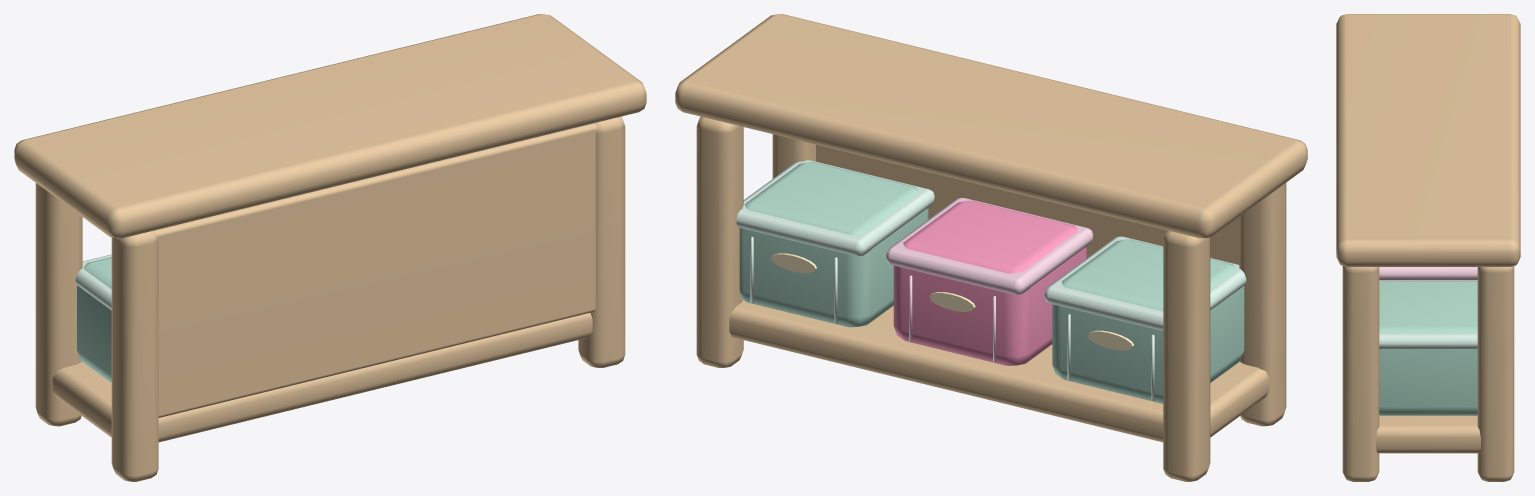
Rendered from shelf_basket.glb.
The picture shows the model from 3 angles, left to right: view 1: azimuth 30°, elevation 25°; view 2: azimuth 150°, elevation 25°; view 3: azimuth 270°, elevation 25°; orthographic projection. The views are drawn at different scales.
Parts seen in each view (by area): view 1: Body; view 2: Body; view 3: Body.
Boxes of the visible parts, x1=… form: Body: x1=14, y1=14, x2=646, y2=481; Body: x1=675, y1=14, x2=1307, y2=481; Body: x1=1336, y1=14, x2=1520, y2=481.
Bounding box in the file's own units: 1.8 × 0.9 × 0.6.
Materials: 6 (6 with a texture image).
